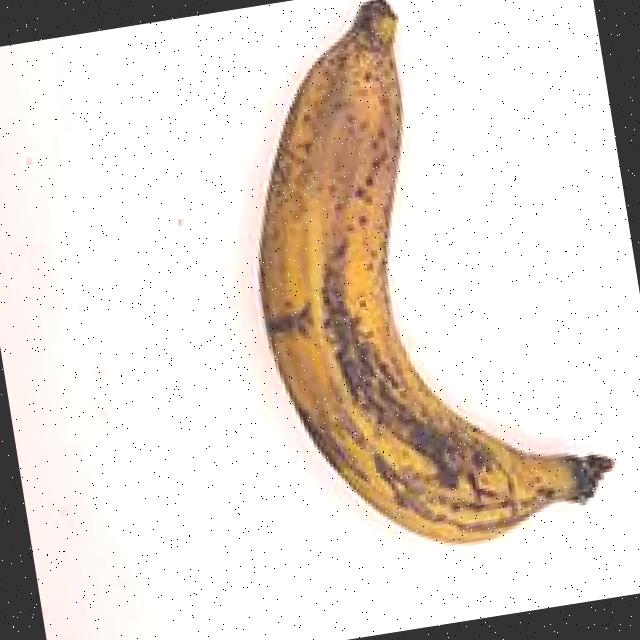Overripe: (197, 0, 640, 597)
